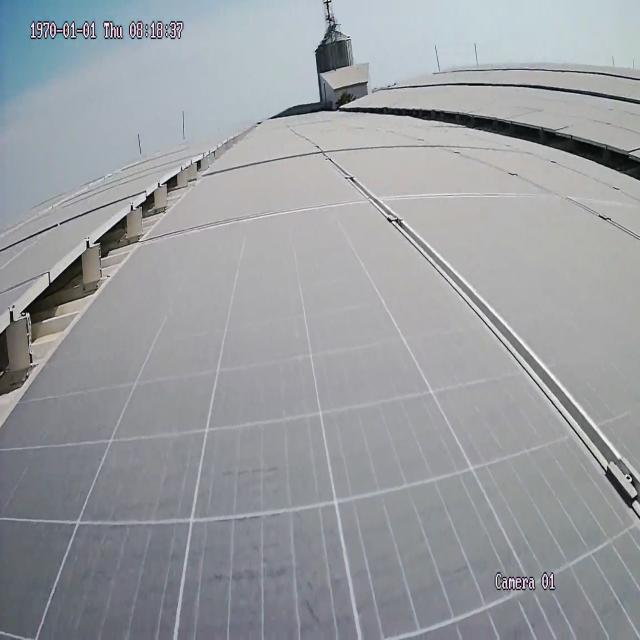interior panel: (328, 159, 634, 495)
outher panel: (2, 133, 247, 429), (395, 102, 639, 183)
